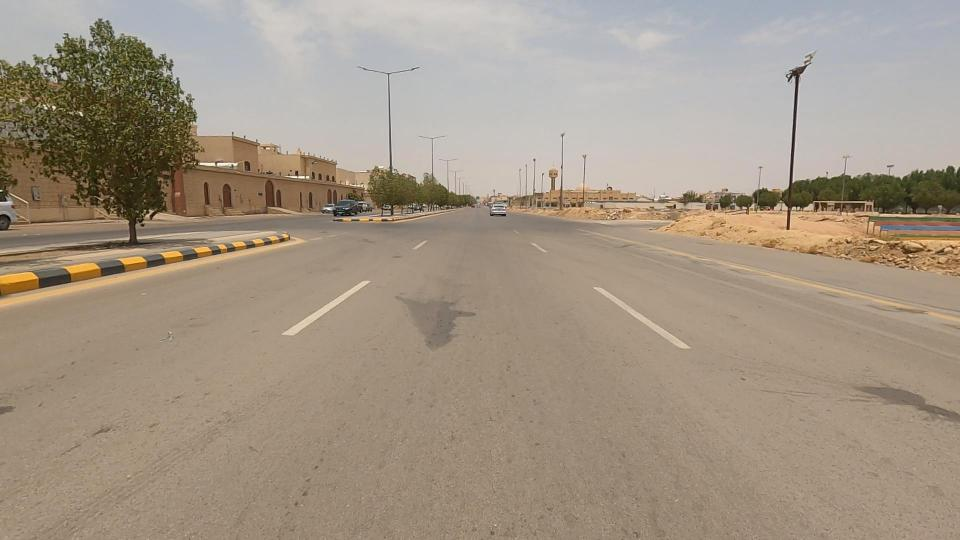SAND_ON_ROAD: (635, 175, 802, 275), (543, 183, 621, 239)
